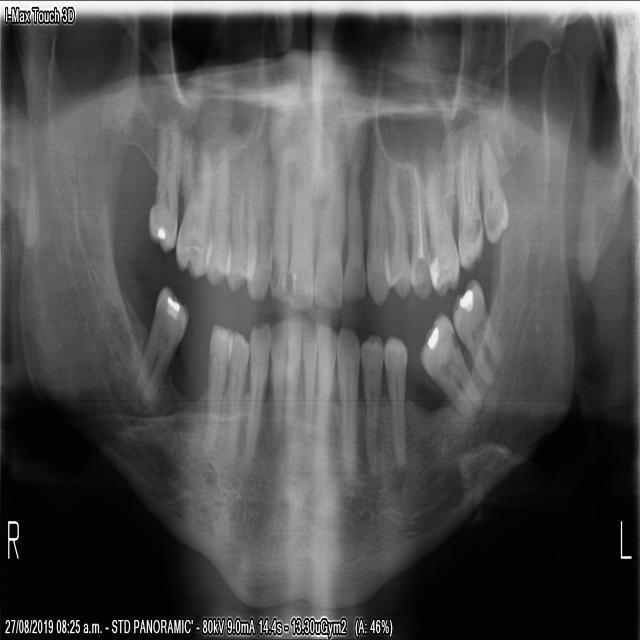LCD: (334, 321, 360, 492)
LCU: (363, 129, 391, 314)
LID: (311, 316, 341, 453), (298, 307, 320, 450)
LIU: (311, 151, 347, 314), (339, 151, 366, 307)
LMD: (417, 303, 484, 428), (446, 271, 504, 390)
LMU: (423, 137, 460, 297), (451, 121, 487, 276), (476, 128, 514, 252)
LPMD: (378, 326, 409, 476), (358, 321, 385, 489)
LPMU: (380, 141, 415, 304), (402, 140, 434, 306)
RCD: (239, 313, 272, 483)
RCU: (243, 124, 273, 307)
RID: (281, 311, 304, 447), (268, 310, 285, 452)
RIU: (285, 142, 314, 316), (267, 127, 291, 308)
RMD: (131, 279, 188, 416)
RMU: (173, 127, 213, 282), (145, 106, 183, 257)
RPMD: (220, 323, 252, 479), (201, 315, 234, 455)
RPMU: (221, 135, 256, 300), (201, 134, 233, 295)
